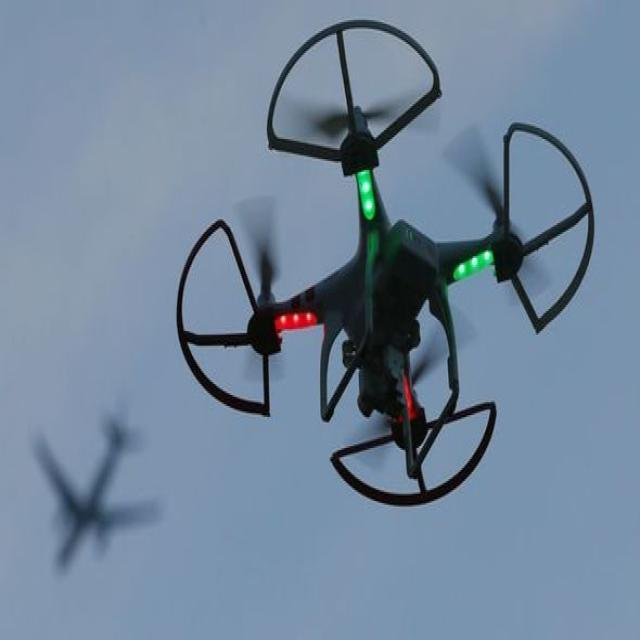drones: (157, 5, 612, 509)
